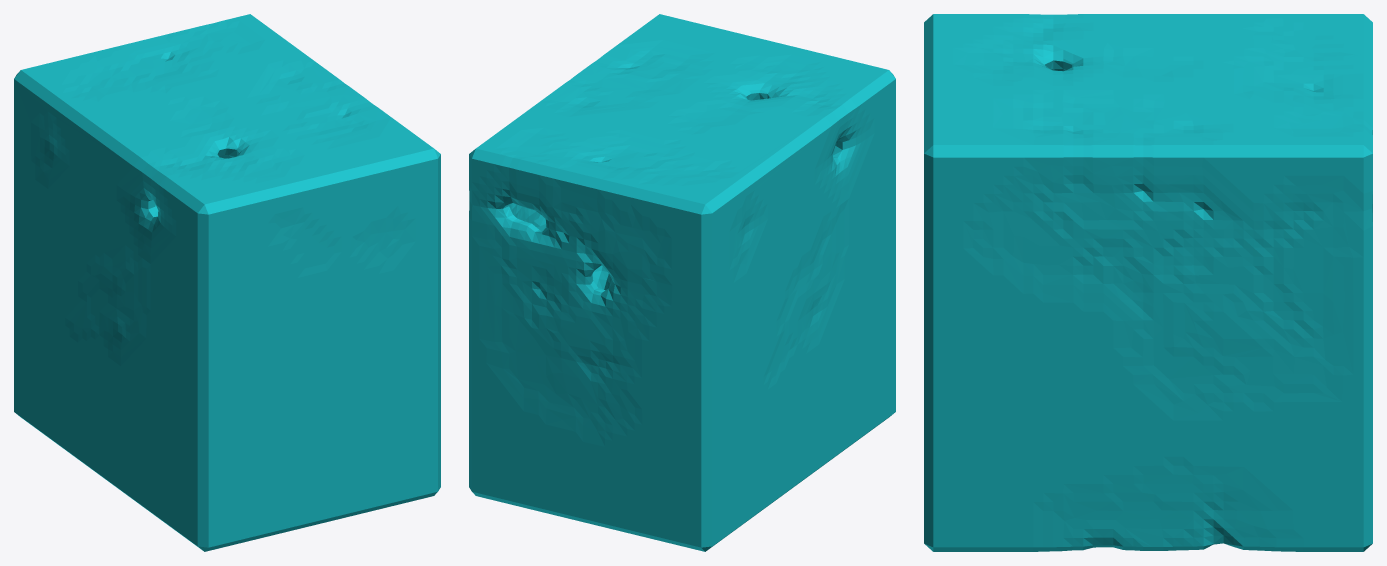
3 views of the same model, side by side, from view 1: azimuth 30°, elevation 25°; view 2: azimuth 150°, elevation 25°; view 3: azimuth 270°, elevation 25° (orthographic). The views are drawn at different scales.
Parts seen in each view (by area): view 1: Liquid_Domain; view 2: Liquid_Domain; view 3: Liquid_Domain.
Boxes of the visible parts, x1=… form: Liquid_Domain: x1=14, y1=14, x2=440, y2=551; Liquid_Domain: x1=469, y1=14, x2=895, y2=551; Liquid_Domain: x1=924, y1=14, x2=1372, y2=551.
Bounding box in the file's own units: 79.09 × 108 × 108.
